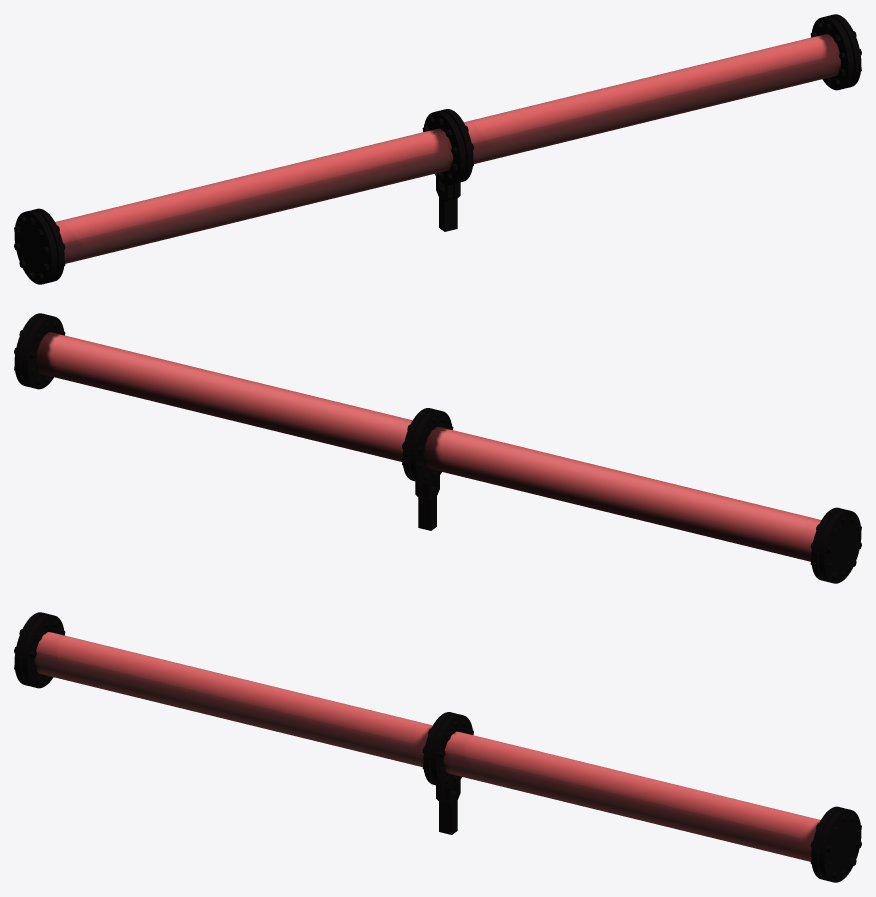
Rendered from pipe.fbx.
3 renders of one model, top to bottom at view 1: azimuth 30°, elevation 25°; view 2: azimuth 150°, elevation 25°; view 3: azimuth 330°, elevation 25°, orthographic.
Visible parts, largest first — view 1: pipe_objects.002; view 2: pipe_objects.002; view 3: pipe_objects.002.
Boxes of the visible parts, bbox=[...] form: pipe_objects.002: bbox=[14, 14, 861, 284]; pipe_objects.002: bbox=[14, 313, 861, 583]; pipe_objects.002: bbox=[14, 612, 861, 882].
Bounding box in the file's own units: 7788 × 1050 × 617.
